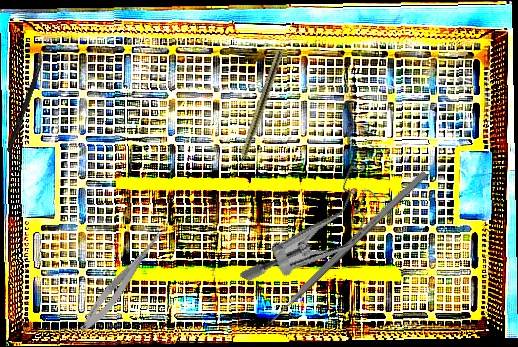Handpiece: (230, 49, 285, 181)
Hook Surgical: (6, 43, 50, 153)
Micro Scissor: (76, 220, 170, 338)
Pusher: (254, 169, 428, 339)
Speculum: (238, 137, 390, 317)
